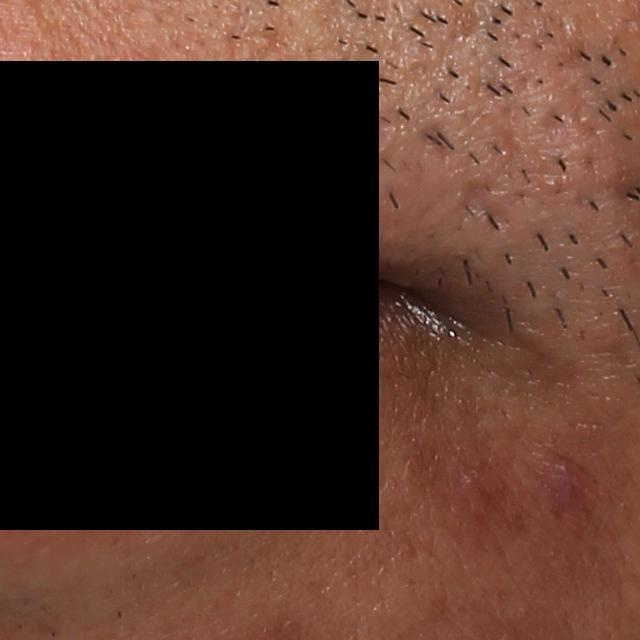atrophic_scar: (453, 174, 517, 232), (416, 123, 458, 165)
